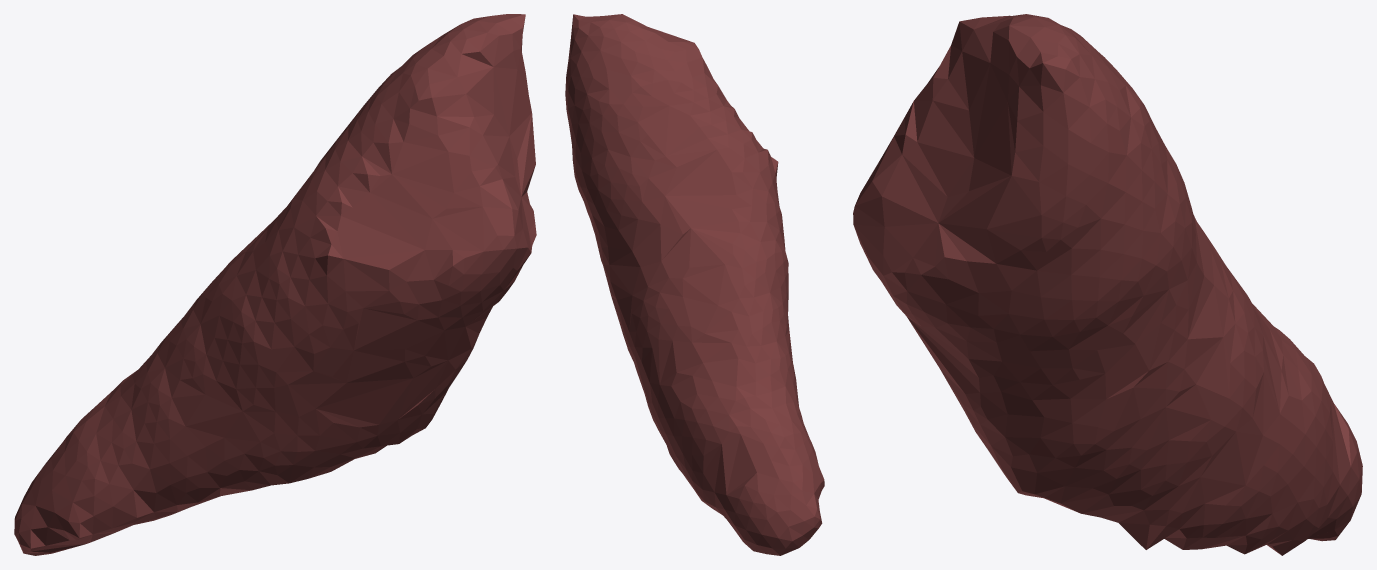
Rendered from Model_612_RH__Solitary_nucleus_(Sol).obj.
The picture shows the model from 3 angles, left to right: view 1: azimuth 30°, elevation 25°; view 2: azimuth 150°, elevation 25°; view 3: azimuth 270°, elevation 25°; orthographic projection. The views are drawn at different scales.
Size of the model in its own units: 1.83 by 2.26 by 1.48.
